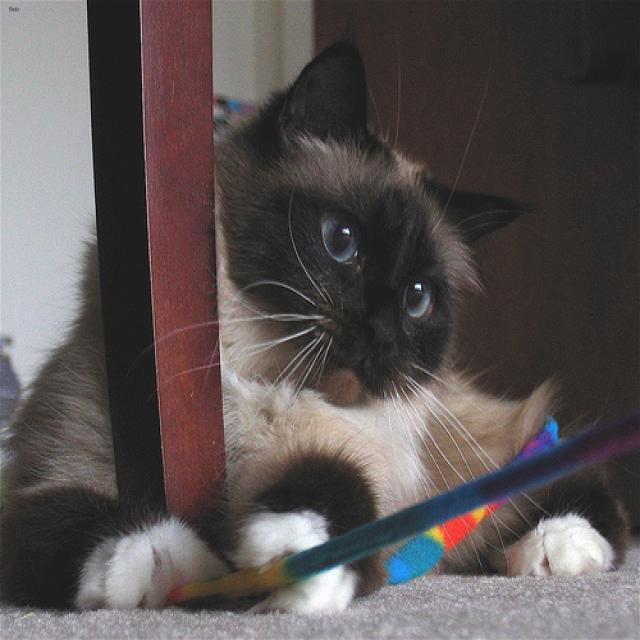Birman: (242, 36, 539, 402)
